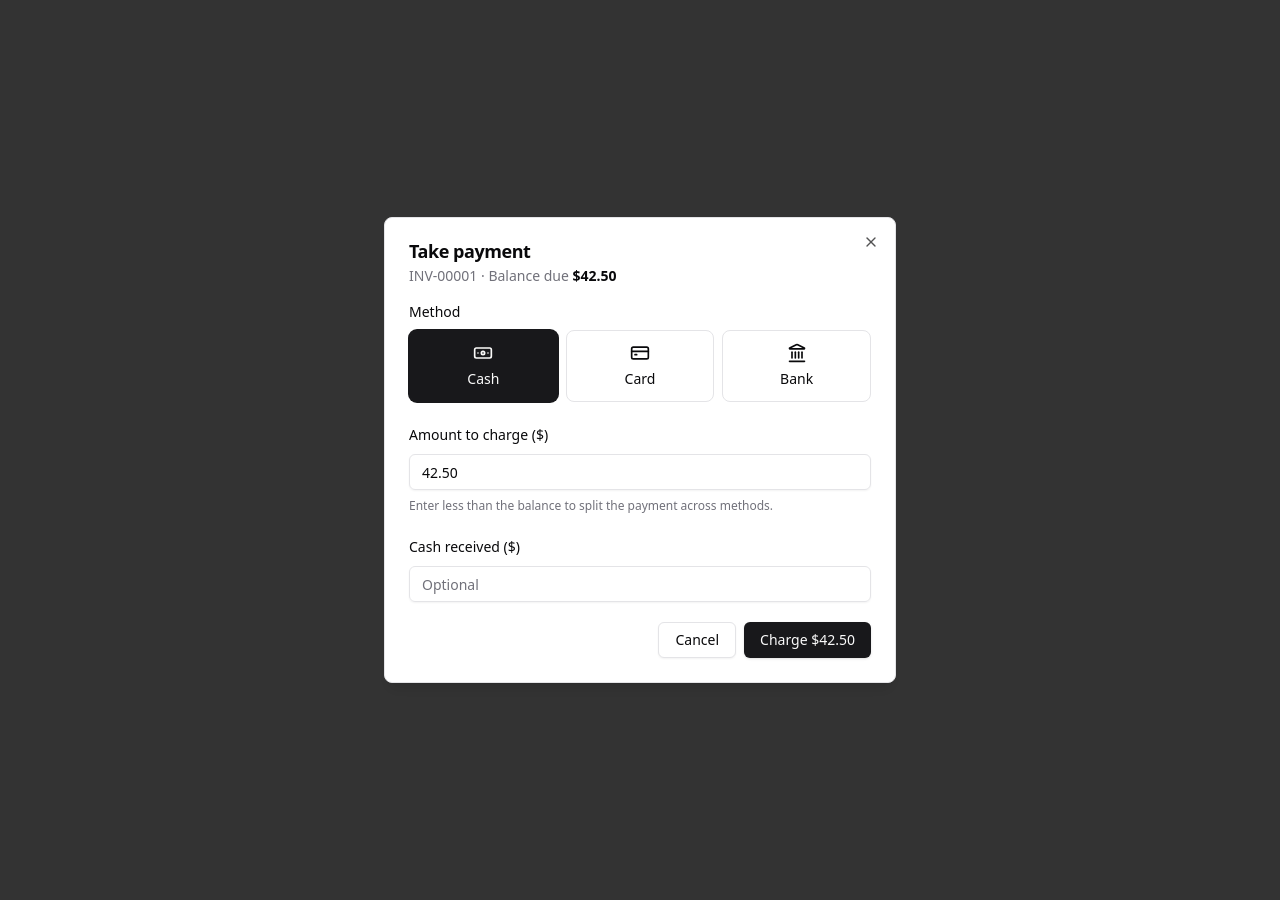
Test: TakePaymentDialog › shows change due for cash
The image size is (1280, 900).
Type "50" into the number field labelled "Cash received ($)" at point(640, 584), box [409, 566, 871, 602]
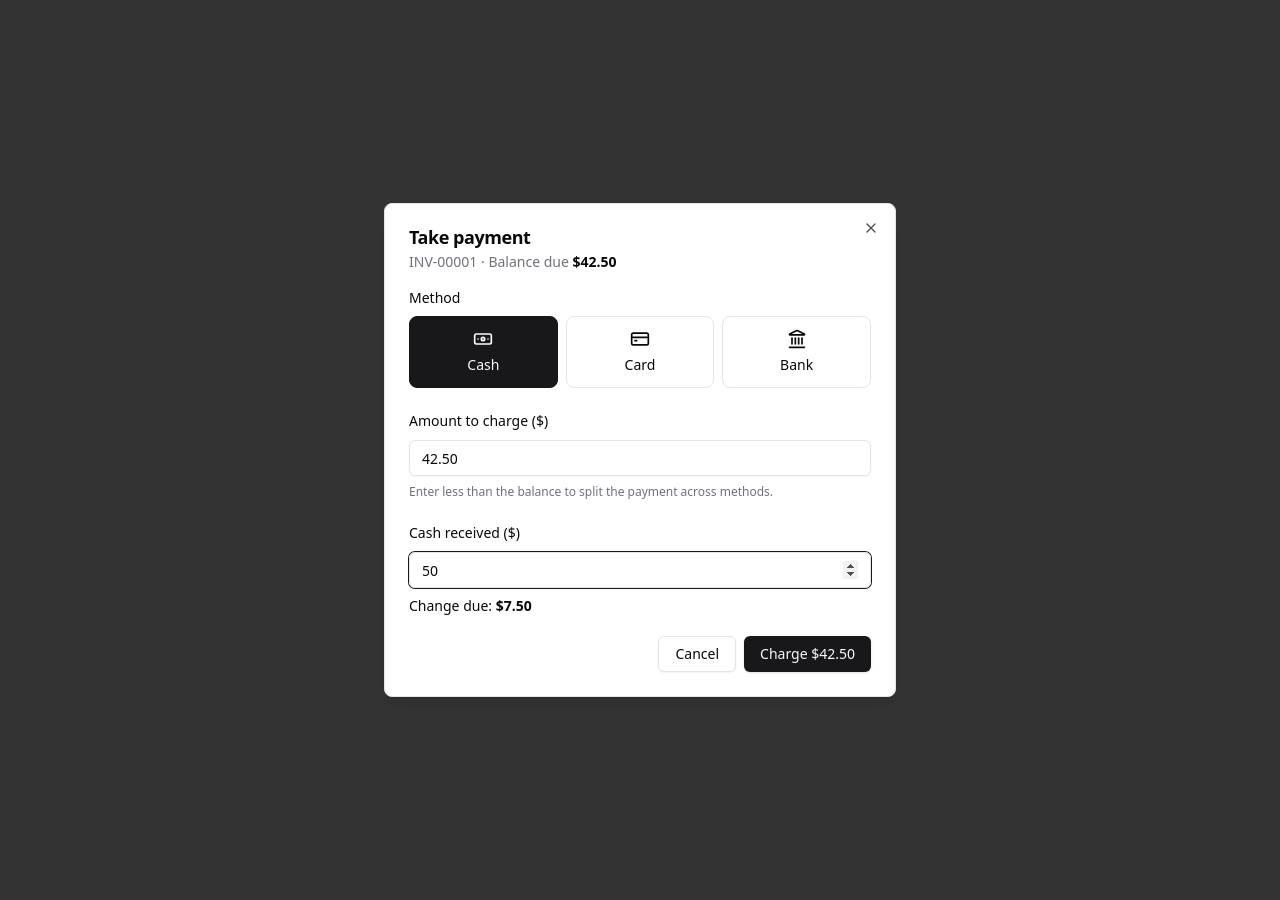
Now the text "$7.50" is shown, box [496, 596, 532, 615]
